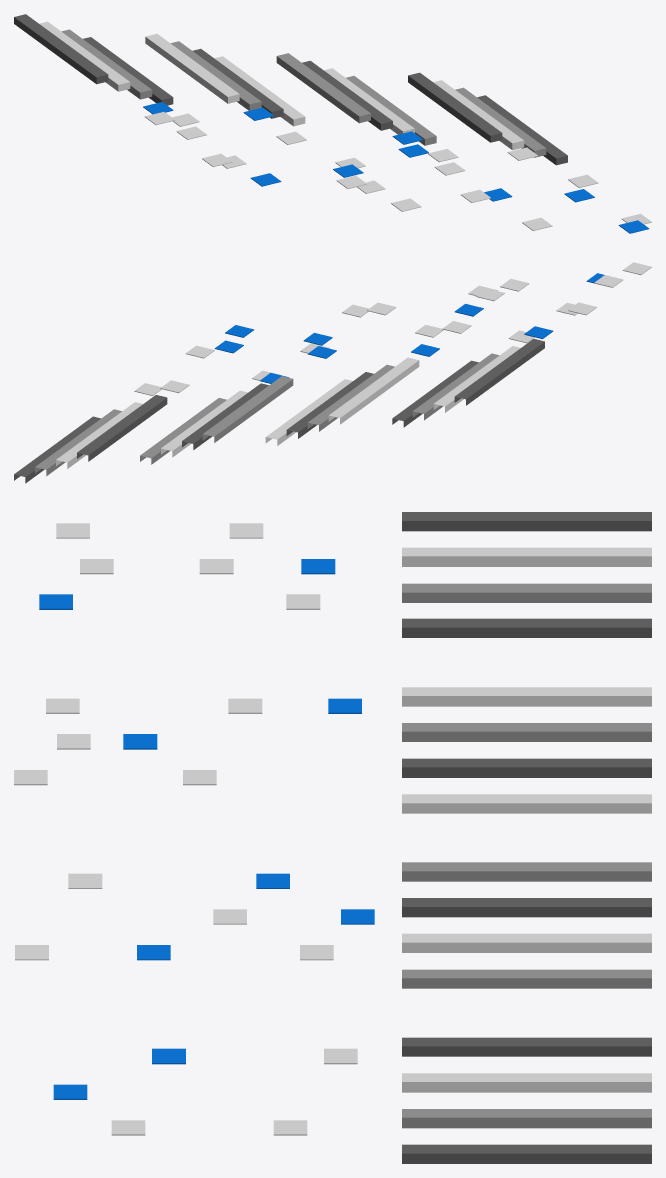
The model's file is Prop_F1_Cushion.fbx.
The picture shows the model from 3 angles, top to bottom: view 1: azimuth 30°, elevation 25°; view 2: azimuth 150°, elevation 25°; view 3: azimuth 270°, elevation 25°; orthographic projection. The views are drawn at different scales.
Parts seen in each view (by area): view 1: F1_Acc1; view 2: F1_Acc1; view 3: F1_Acc1.
Part boxes in pixels (x1,y1,x2,y2): F1_Acc1: (14,14,651,233); F1_Acc1: (14,262,651,483); F1_Acc1: (14,512,651,1163).
Bounding box in the file's own units: 1293 × 524 × 1000.
